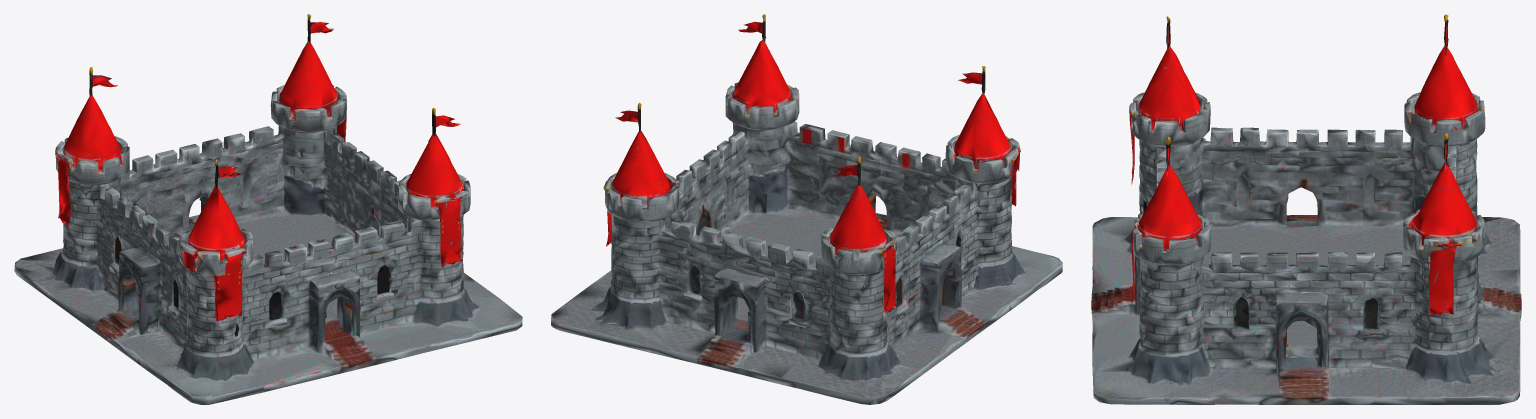
File: palazzo.glb
3 views of the same model, side by side, from view 1: azimuth 30°, elevation 25°; view 2: azimuth 150°, elevation 25°; view 3: azimuth 270°, elevation 25° (orthographic). The views are drawn at different scales.
Bounding box in the file's own units: 1.9 × 1.16 × 1.9.
Materials: 1 (1 with a texture image).
